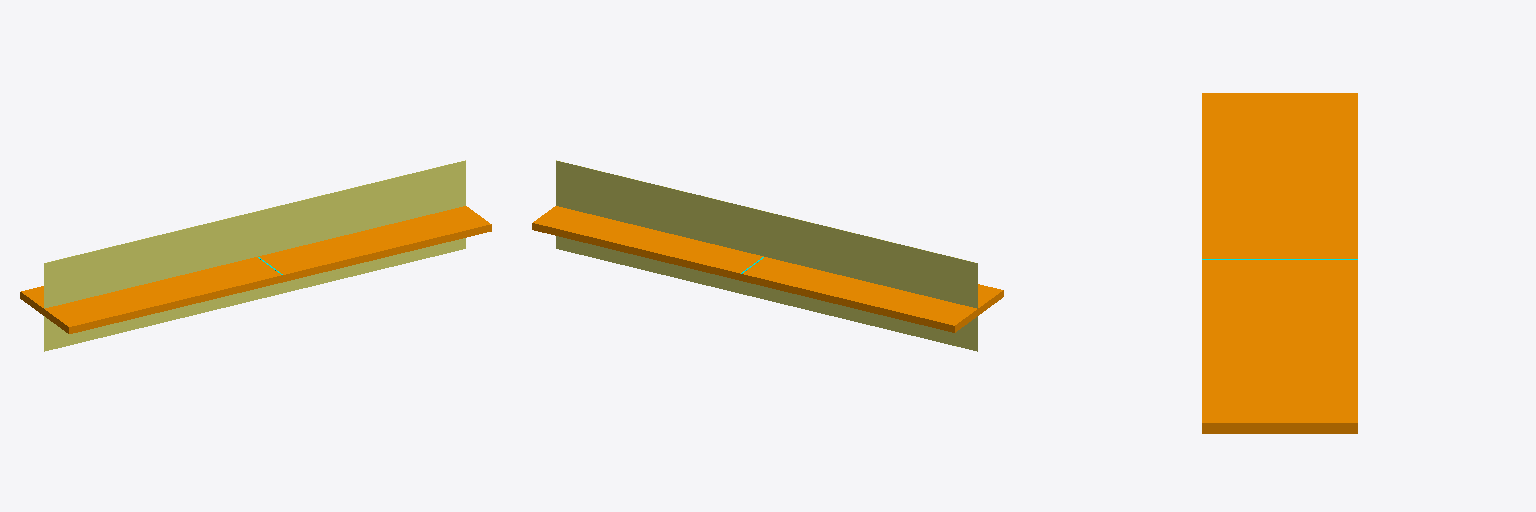
The robot description file, URDF, robot "ground_skeleton":
<?xml version="1.0"?>
<robot name="ground_skeleton">
    <link name="world" />
    <link name="ground_link">
        <inertial>
            <mass value="1.0" />
            <origin xyz="2.5 0 -1.368" rpy="0 0 0"/>
            <inertia ixx="1.0" ixy="0" ixz="0" iyy="1.0" iyz="0" izz="1.0" />
        </inertial>
        <visual>
            <origin xyz="0 0 -1.368" rpy="0 0 0" />
            <geometry>
                <box size="125 25 2.05" />
            </geometry>
            <material name="Carpet">
                <color rgba ="1.0 0.6 0.01 0.7"/>
            </material>
        </visual>
        <collision group="default">
            <origin xyz="0 0 -1.368"  rpy="0 0 0"/>
            <geometry>
                <box size="125 25 2.05" />
            </geometry>
        </collision>
    </link>
    <joint name="ground_joint" type="fixed">
        <origin xyz="0 0 0" rpy="0 0 0" />
        <parent link="world" />
        <child link="ground_link" />
    </joint>

    <link name="ground_link2">
        <inertial>
            <mass value="1.0" />
            <origin xyz="0 0 -1.368" rpy="0 0 0"/>
            <inertia ixx="1.0" ixy="0" ixz="0" iyy="1.0" iyz="0" izz="1.0" />
        </inertial>
        <visual>
            <origin xyz="0.7 0 -1.343" rpy="0 0 0" />
            <geometry>
                <box size="0.4 25 2.05" />
            </geometry>
            <material name="G">
                <color rgba ="0.0 1.0 1.0 1.0"/>
            </material>
        </visual>
        <collision group="default">
            <origin xyz="0.7 0 -1.343"  rpy="0 0 0"/>
            <geometry>
                <box size="0.4 25 2.05" />
            </geometry>
        </collision>
    </link>
    <joint name="ground_joint2" type="fixed">
        <origin xyz="0 0 0" rpy="0 0 0" />
        <parent link="ground_link" />
        <child link="ground_link2" />
    </joint>

    <link name="wall">
        <inertial>
            <mass value="1.0" />
            <origin xyz="0 0 -1.368" rpy="0 0 0"/>
            <inertia ixx="1.0" ixy="0" ixz="0" iyy="1.0" iyz="0" izz="1.0" />
        </inertial>
        <visual>
            <origin xyz="0 0.5 0" rpy="1.57 0 0" />
            <geometry>
                <box size="125 25 0.1" />
            </geometry>
            <material name="Grey">
                <color rgba ="0.9 0.9 0.47 1.0"/>
            </material>
        </visual>
        <!--<collision group="default">
            <origin xyz="0 0.5 0" rpy="1.57 0 0" />
            <geometry>
                <box size="125 25 0.1" />
            </geometry>
        </collision>-->
    </link>
    <joint name="ground_joint_wall" type="fixed">
        <origin xyz="0 0 0" rpy="0 0 0" />
        <parent link="ground_link" />
        <child link="wall" />
    </joint>


    <link name="pillar1">
        <inertial>
            <mass value="1.0" />
            <origin xyz="0 0 0.368" rpy="0 0 0"/>
            <inertia ixx="1.0" ixy="0" ixz="0" iyy="1.0" iyz="0" izz="1.0" />
        </inertial>
        <visual>
            <origin xyz="0.7 0.47 0.368" rpy="0 0 0" />
            <geometry>
                <box size="0.1 0.1 10.0" />
            </geometry>
            <material name="pillar">
                <color rgba ="0.9 0.9 0.47 1.0"/>
            </material>
        </visual>
    </link>
    <joint name="pillar1joint" type="fixed">
        <origin xyz="0 0 0" rpy="0 0 0" />
        <parent link="ground_link" />
        <child link="pillar1" />
    </joint>

    <link name="pillar2">
        <inertial>
            <mass value="1.0" />
            <origin xyz="0 0 -0.368" rpy="0 0 0"/>
            <inertia ixx="1.0" ixy="0" ixz="0" iyy="1.0" iyz="0" izz="1.0" />
        </inertial>
        <visual>
            <origin xyz="0.0 0.47 -0.368" rpy="0 0 0" />
            <geometry>
                <box size="0.1 0.1 10.0" />
            </geometry>
            <material name="pillar">
                <color rgba ="0.9 0.9 0.47 1.0"/>
            </material>
        </visual>
    </link>
    <joint name="pillar2joint" type="fixed">
        <origin xyz="0 0 0" rpy="0 0 0" />
        <parent link="ground_link" />
        <child link="pillar2" />
    </joint>


    <link name="pillar3">
        <inertial>
            <mass value="1.0" />
            <origin xyz="0 0 -0.368" rpy="0 0 0"/>
            <inertia ixx="1.0" ixy="0" ixz="0" iyy="1.0" iyz="0" izz="1.0" />
        </inertial>
        <visual>
            <origin xyz="1.4 0.47 -0.368" rpy="0 0 0" />
            <geometry>
                <box size="0.1 0.1 10.0" />
            </geometry>
            <material name="pillar">
                <color rgba ="0.9 0.9 0.47 1.0"/>
            </material>
        </visual>
    </link>
    <joint name="pillar3joint" type="fixed">
        <origin xyz="0 0 0" rpy="0 0 0" />
        <parent link="ground_link" />
        <child link="pillar3" />
    </joint>

</robot>

--- Render facts (derived) ---
The picture shows the robot from 3 angles, left to right: view 1: azimuth 30°, elevation 25°; view 2: azimuth 150°, elevation 25°; view 3: azimuth 270°, elevation 25°; orthographic projection.
Robot: ground_skeleton — 7 links, 6 joints (6 fixed); root link world; default pose: every joint at zero.
Links seen in each view (by area): view 1: wall, ground_link; view 2: wall, ground_link; view 3: ground_link.
Link boxes in pixels (x1=…): wall: x1=44, y1=160, x2=465, y2=351; ground_link: x1=20, y1=206, x2=491, y2=333; wall: x1=556, y1=160, x2=977, y2=351; ground_link: x1=532, y1=206, x2=1003, y2=332; ground_link: x1=1202, y1=93, x2=1357, y2=433.
Size in the robot's own frame: 125 by 25 by 25 metres.
Geometry: primitives only (box / cylinder / sphere), no mesh files.
